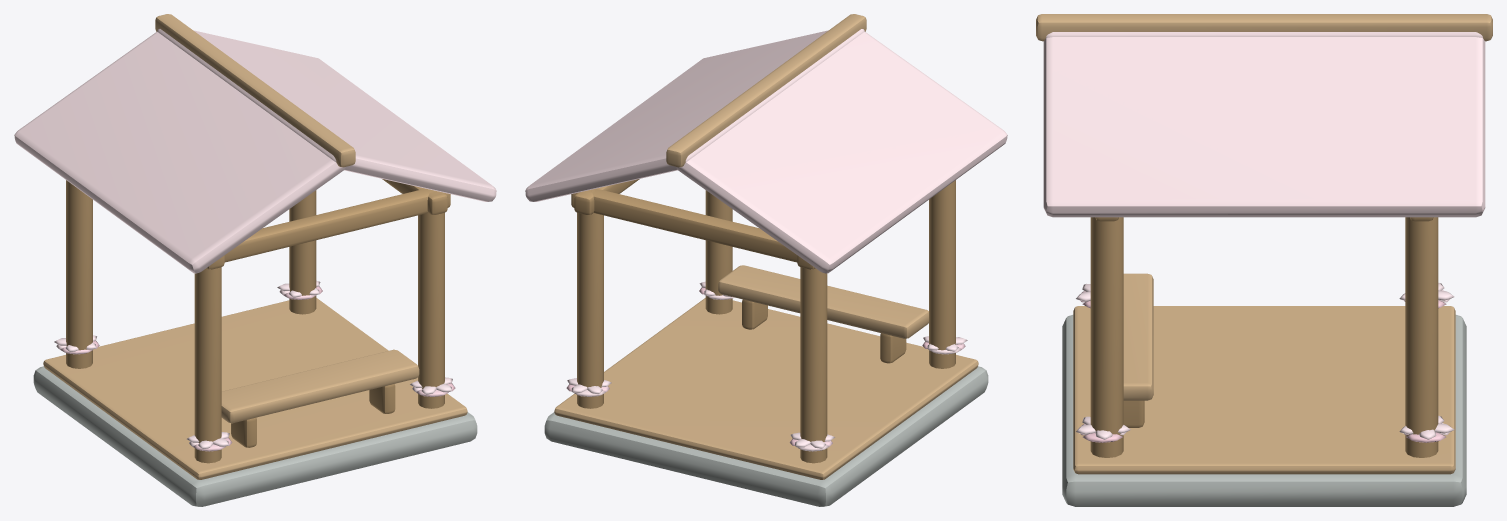
File: gazebo_spring_v1.glb
3 views of the same model, side by side, from view 1: azimuth 30°, elevation 25°; view 2: azimuth 150°, elevation 25°; view 3: azimuth 270°, elevation 25° (orthographic). The views are drawn at different scales.
Bounding box in the file's own units: 2.89 × 3.02 × 3.05.
